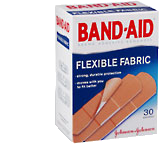grozi_46: (54, 0, 158, 143)
